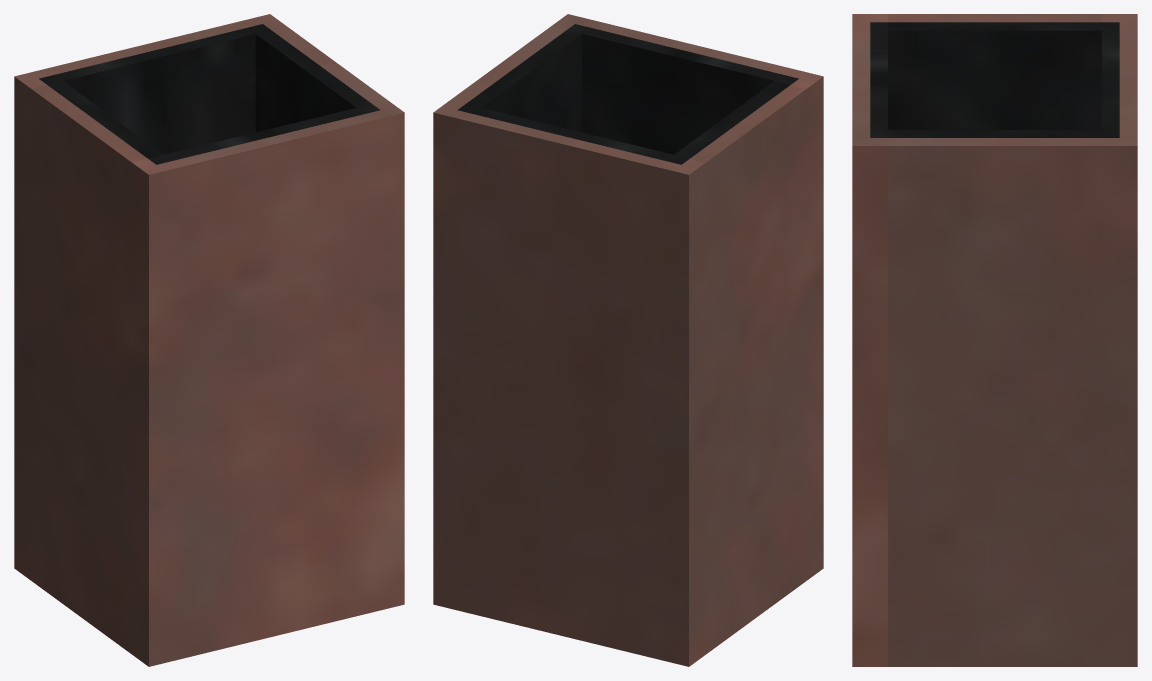
The model's file is SM_EC_KitchenBin_1.fbx.
The picture shows the model from 3 angles, left to right: view 1: azimuth 30°, elevation 25°; view 2: azimuth 150°, elevation 25°; view 3: azimuth 270°, elevation 25°; orthographic projection. The views are drawn at different scales.
Parts seen in each view (by area): view 1: SM_EC_KitchenBin_1; view 2: SM_EC_KitchenBin_1; view 3: SM_EC_KitchenBin_1.
Boxes of the visible parts, x1=… form: SM_EC_KitchenBin_1: x1=14, y1=14, x2=404, y2=666; SM_EC_KitchenBin_1: x1=433, y1=14, x2=823, y2=666; SM_EC_KitchenBin_1: x1=852, y1=14, x2=1137, y2=666.
Bounding box in the file's own units: 0.4407 × 0.4018 × 0.81.
